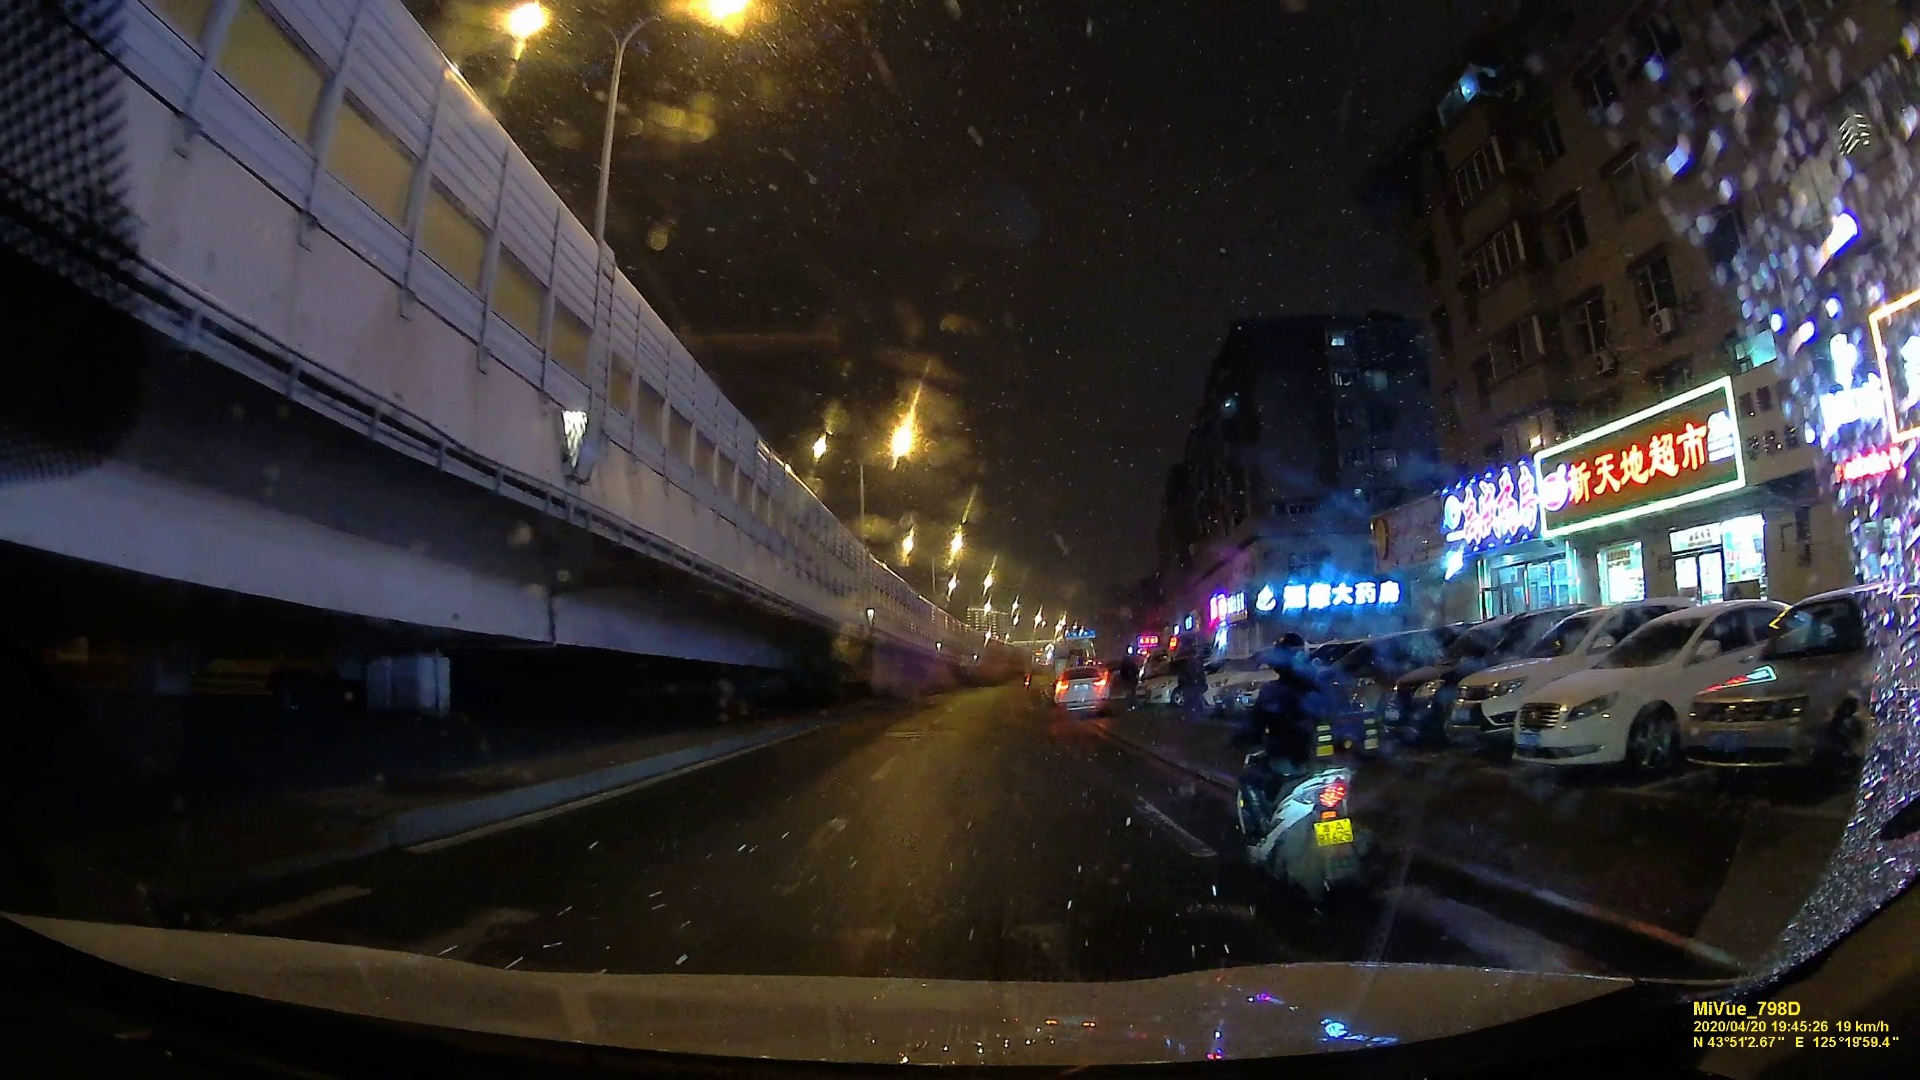person: (1244, 638, 1338, 806), (1169, 632, 1211, 732), (1115, 648, 1147, 706)
vehicle: (1516, 606, 1754, 767), (1054, 665, 1111, 712)
